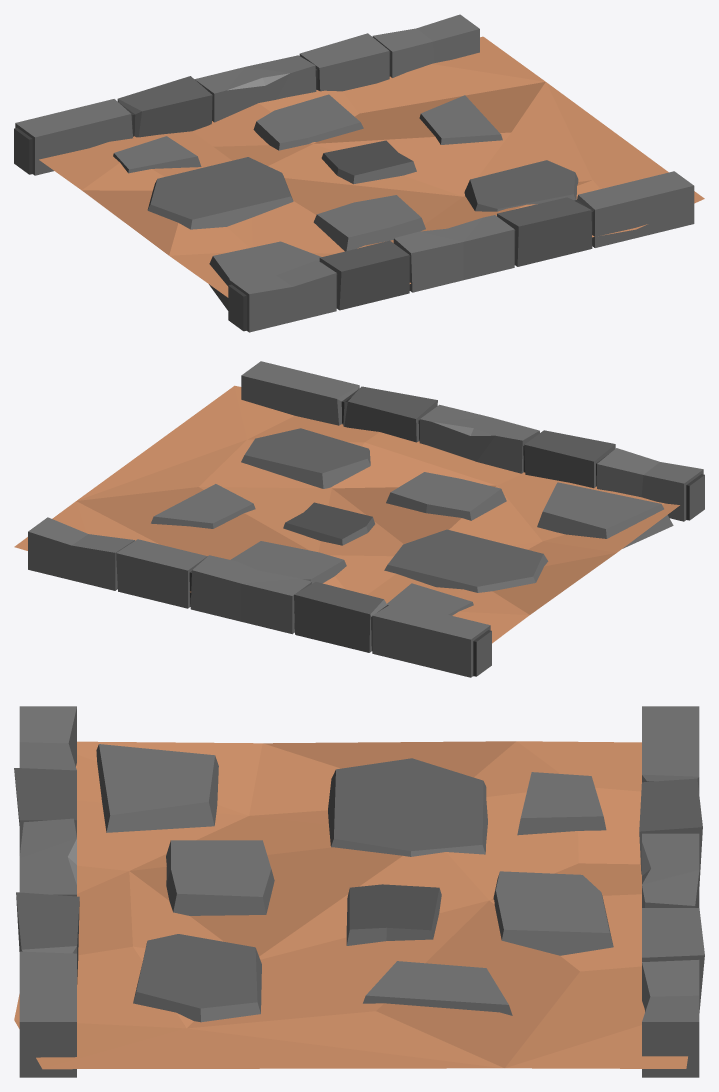
The model's file is Road_03.fbx.
The picture shows the model from 3 angles, top to bottom: view 1: azimuth 30°, elevation 25°; view 2: azimuth 150°, elevation 25°; view 3: azimuth 270°, elevation 25°; orthographic projection. The views are drawn at different scales.
Visible parts, largest first — view 1: road_03.001; view 2: road_03.001; view 3: road_03.001.
Part boxes in pixels (left/top/right/bottom): road_03.001: left=14, top=14, right=704, bottom=332; road_03.001: left=14, top=361, right=704, bottom=677; road_03.001: left=14, top=706, right=704, bottom=1077.
Size of the model in its own units: 3.86 by 0.3475 by 3.4.
